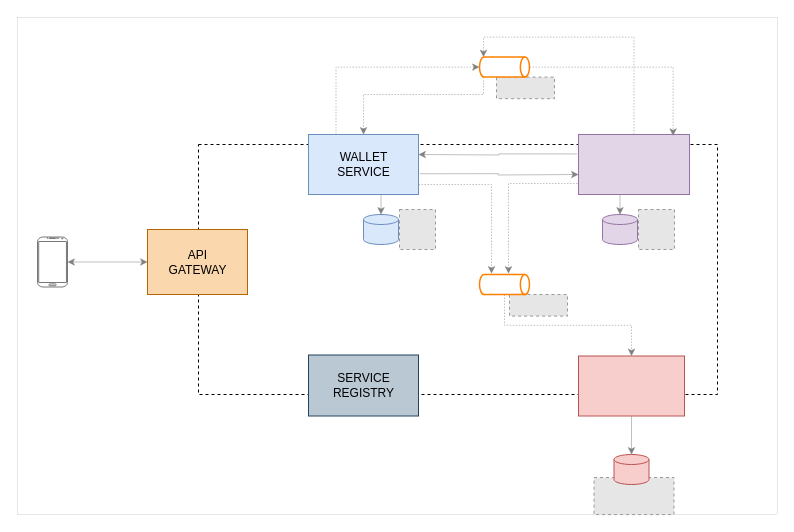
This 794x532 diagram has some shape labels left out. Grey dashed boxes stand in for pictures. The shapes that lost their labels are listed below. From the top down, each one's centre as x and y in pixels, then its label:
(634,164): MOVEMENTS SERVICE
(631,385): TIMELINE SERVICE
